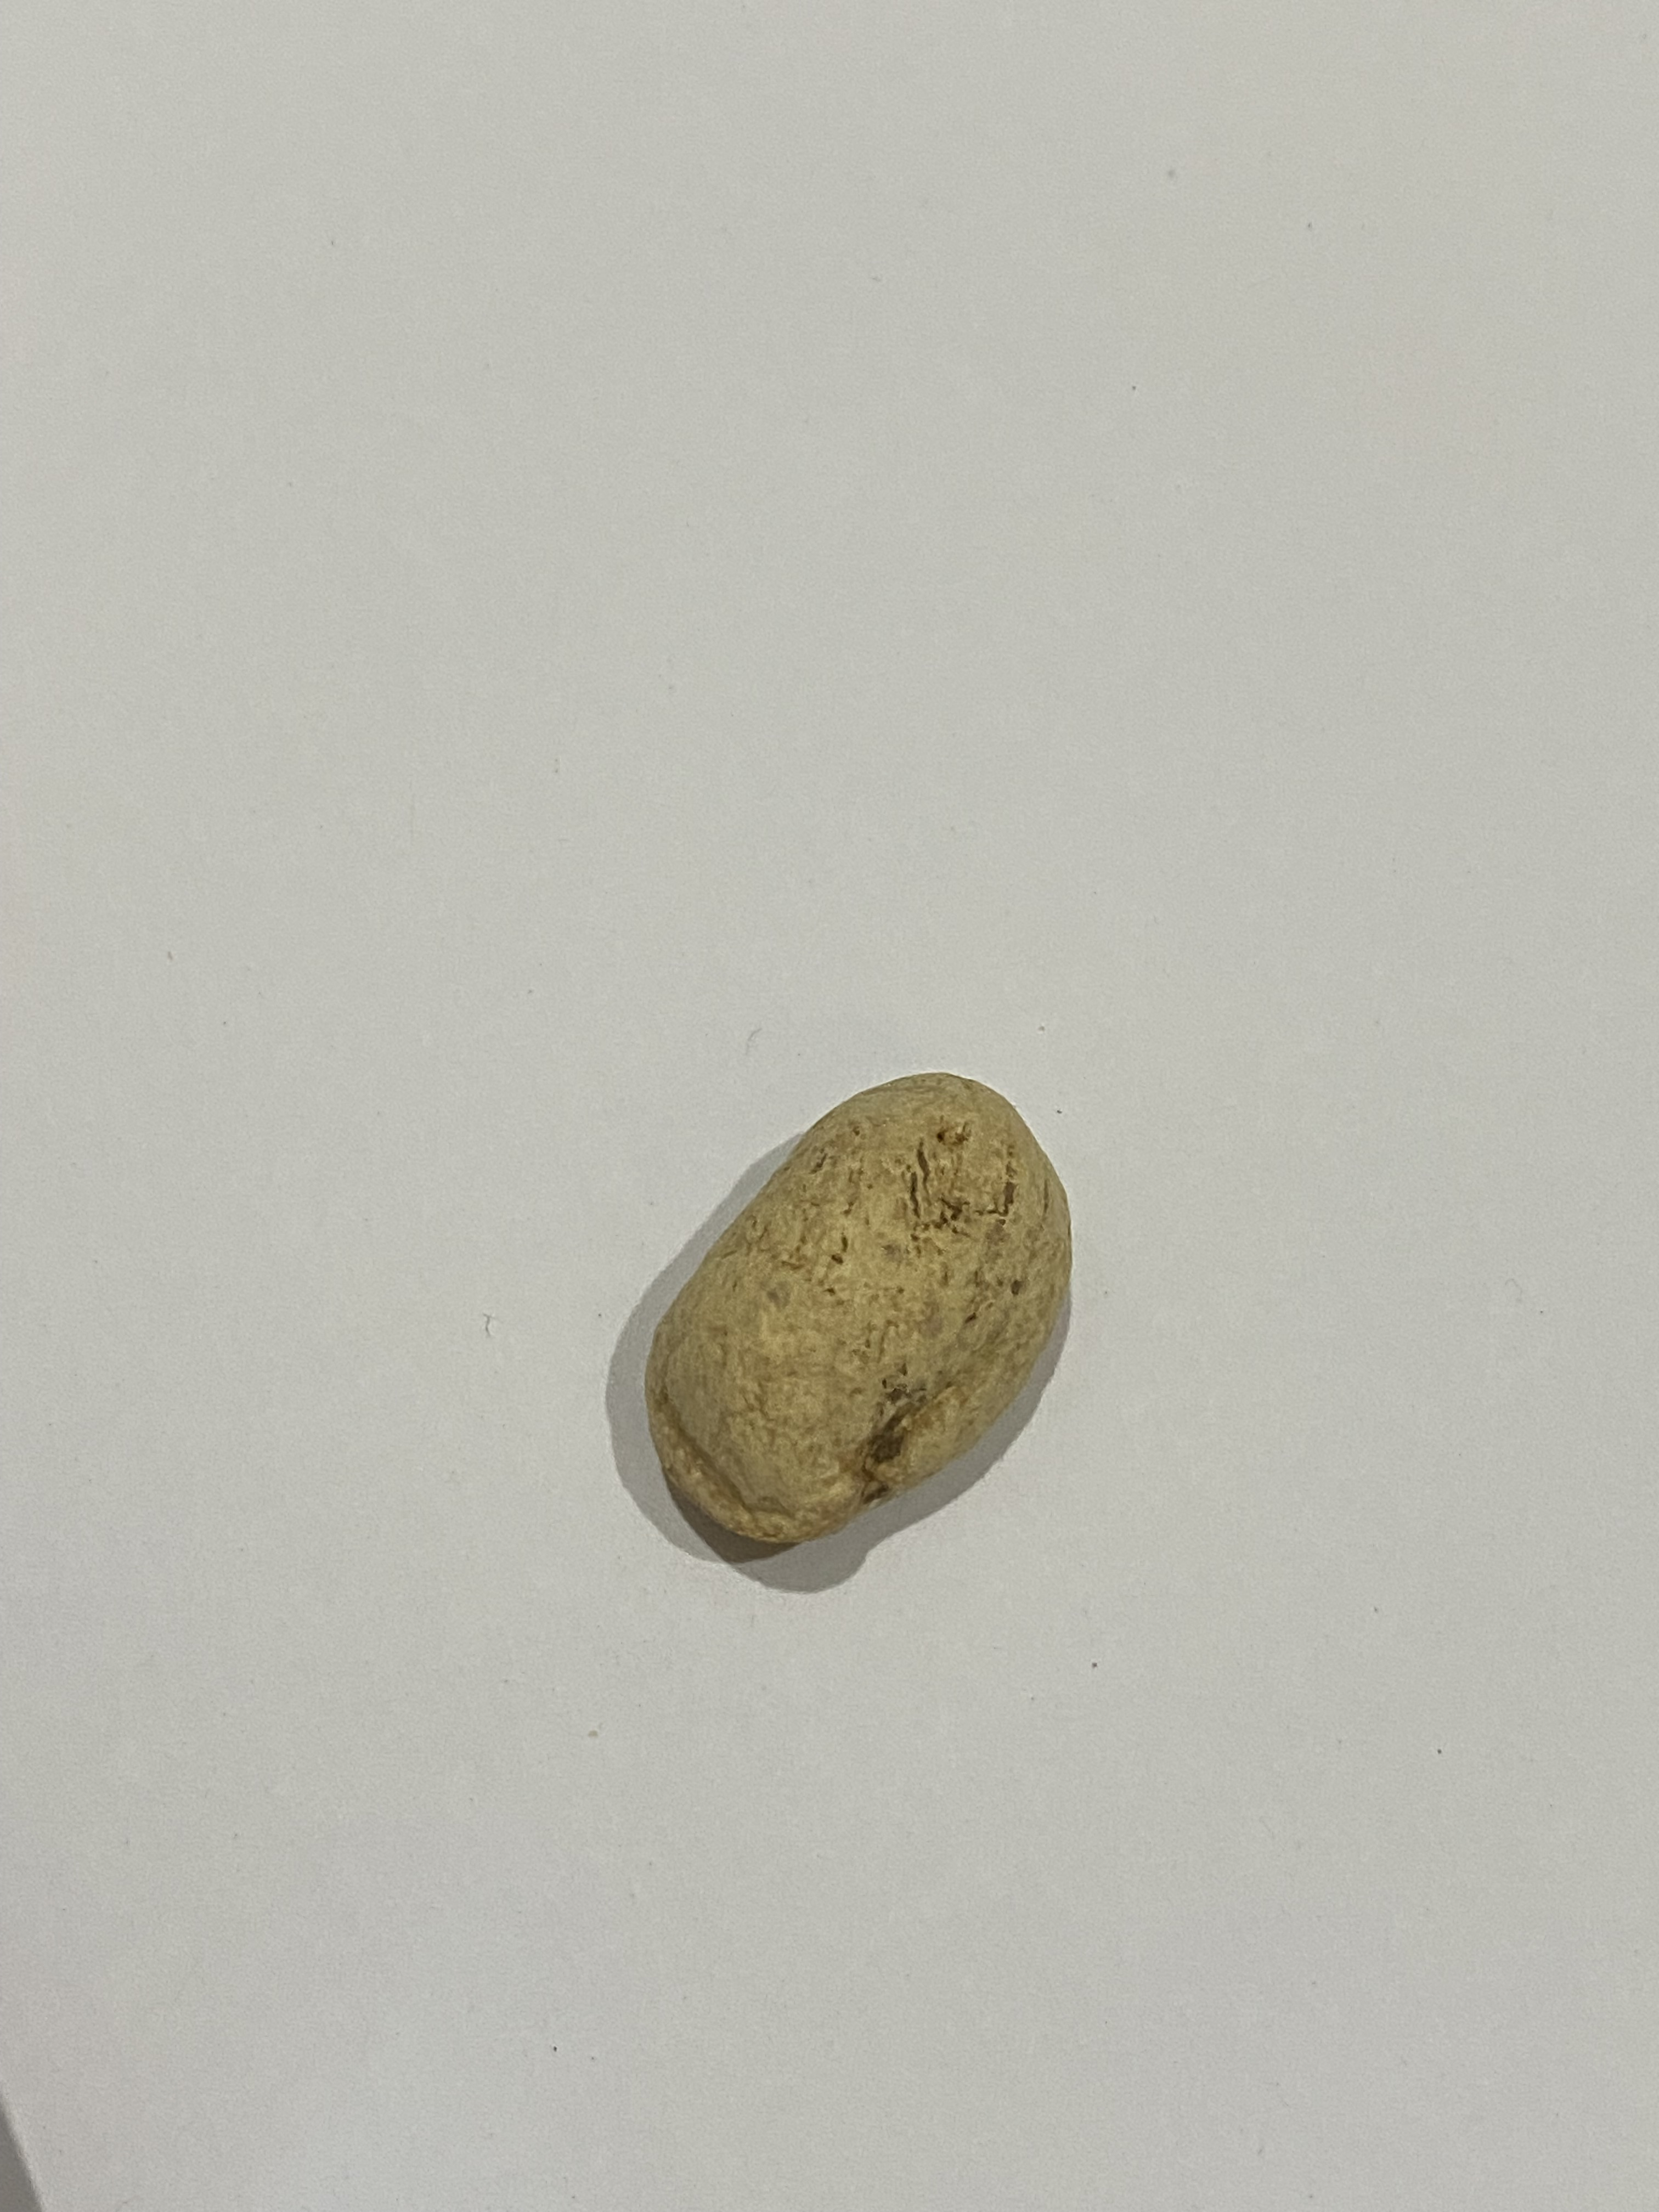kacang1: (601, 1054, 1119, 1548)
